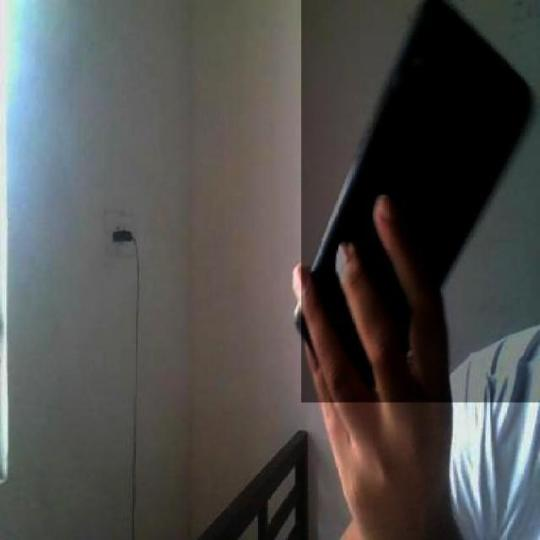phone: (303, 2, 540, 406)
